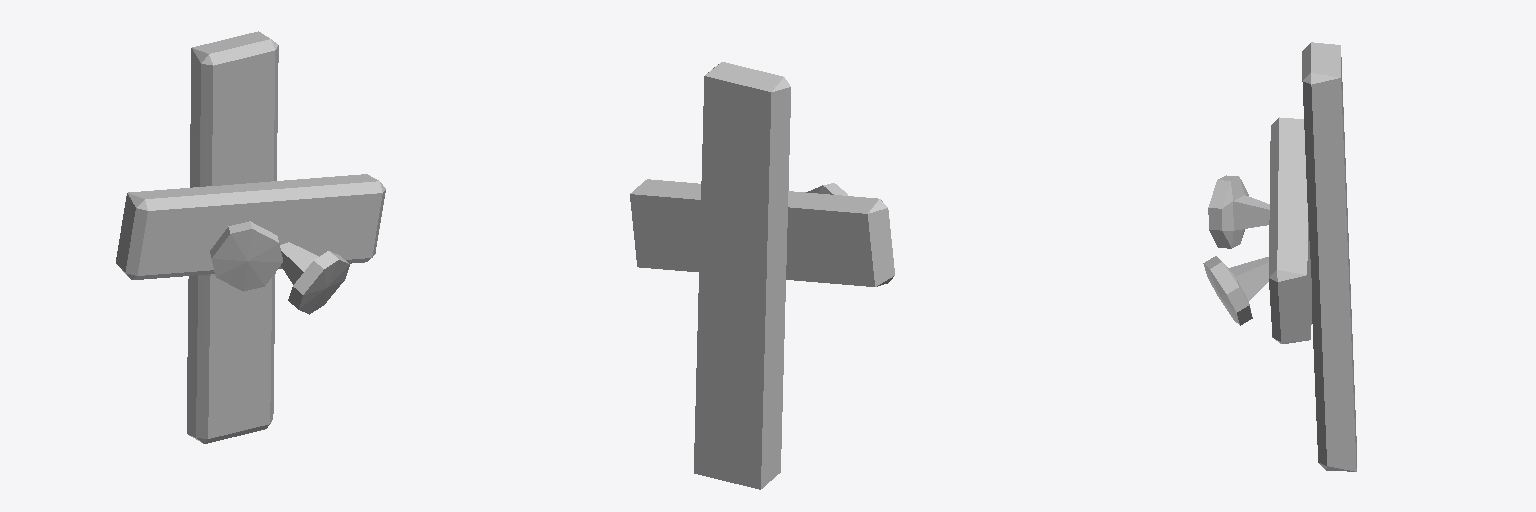
Rendered from gravemarker_B.obj.
The picture shows the model from 3 angles: view 1: azimuth 30°, elevation 25°; view 2: azimuth 150°, elevation 25°; view 3: azimuth 270°, elevation 25°; orthographic projection.
Parts seen in each view (by area): view 1: gravemarker_B_Cube.123; view 2: gravemarker_B_Cube.123; view 3: gravemarker_B_Cube.123.
Part boxes in pixels (x1,y1,x2,y2): gravemarker_B_Cube.123: (116,31,385,443); gravemarker_B_Cube.123: (630,62,894,489); gravemarker_B_Cube.123: (1203,42,1356,471).
Bounding box in the file's own units: 0.8029 × 1.18 × 0.4132.